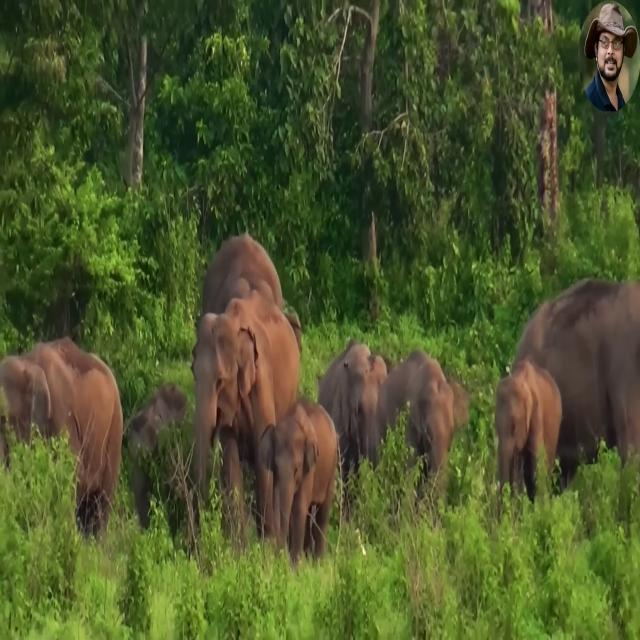Elephant: (200, 240, 305, 540), (510, 276, 640, 495), (0, 335, 124, 546), (375, 348, 470, 524), (260, 394, 338, 567), (316, 338, 388, 522), (494, 357, 563, 506), (124, 381, 188, 536)
